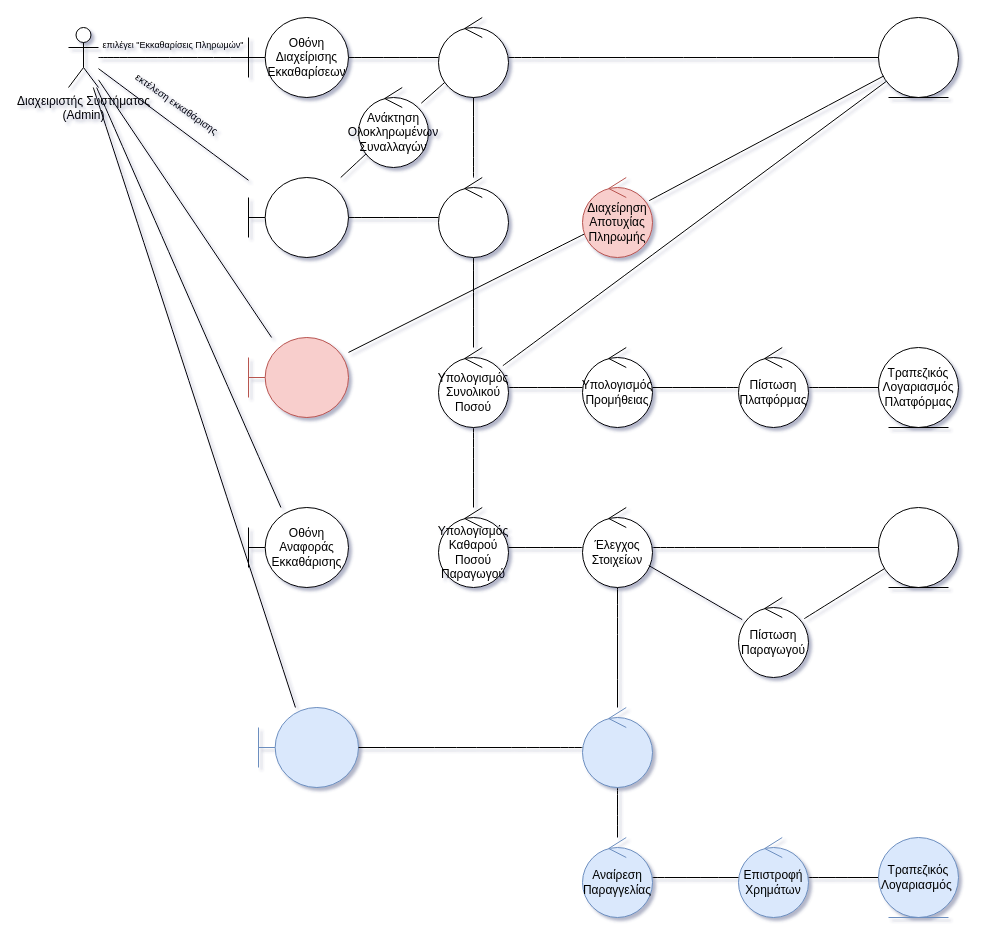
Image size: 982x941. Some labels were removed from this diagram. The centre of each missing label's shape, as x and y in pixels:
Bάση Δεδομένων: the point at 918,57
Αναζητά: the point at 473,57
Ειδοποίηση Διαχειριστή: the point at 617,747
Εκκίνηση Εκκαθάρισης: the point at 473,217
Οθόνη Eμφάνισης Εκκαθαρίσεων: the point at 298,217
Οθόνη Μηνύματος Ελλιπών Στοιχείων: the point at 308,747
Οθόνη Μηνύματος Σφάλματος Πληρωμής: the point at 298,377
Τραπεζικός Λογαριασμός Παραγωγού: the point at 918,547
